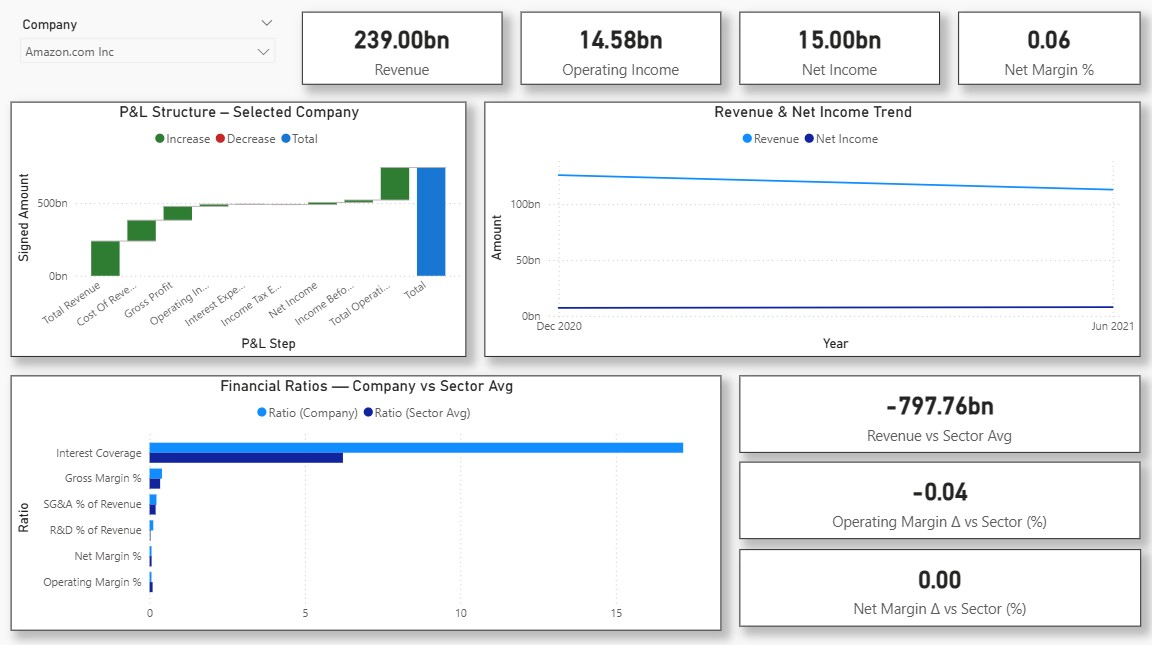

This screenshot's page, from the dashboard's own definition file:
{"tool":"powerbi","page":{"name":"Company Deep Dive","canvas":[1280,720],"ordinal":2},"visuals":[{"type":"slicer","fields":{"Values":["DimCompany.Company"]},"box":[20,20,300,60],"z":0},{"type":"card","fields":{"Values":["MeasureTable.Revenue"]},"box":[340,20,220,80],"z":1000},{"type":"card","fields":{"Values":["MeasureTable.Operating Income"]},"box":[580,20.6,220,80],"z":2000},{"type":"card","fields":{"Values":["MeasureTable.Net Income"]},"box":[820,20.6,220,80],"z":3000},{"type":"card","fields":{"Values":["MeasureTable.Net Margin %"]},"box":[1060.7,20.6,200,80],"z":4000},{"type":"waterfallChart","title":"P&L Structure – Selected Company","fields":{"Category":["FactFinancials_PnL.P&L Step"],"Y":["Sum(FactFinancials_PnL.Signed Amount)"]},"box":[20,120,500,280],"z":5000},{"type":"lineChart","title":"Revenue & Net Income Trend","fields":{"Y":["MeasureTable.Revenue","MeasureTable.Net Income"],"Category":["DimDate.Date.Variation.Date Hierarchy.Year","DimDate.Date.Variation.Date Hierarchy.Quarter","DimDate.Date.Variation.Date Hierarchy.Month","DimDate.Date.Variation.Date Hierarchy.Day"]},"box":[540,120,720,280],"z":6000},{"type":"clusteredBarChart","title":"Financial Ratios — Company vs Sector Avg","fields":{"Category":["DimRatio.Ratio"],"Y":["MeasureTable.Ratio (Company)","MeasureTable.Ratio (Sector Avg)"]},"box":[20,420,780,280],"z":6001},{"type":"card","fields":{"Values":["MeasureTable.Revenue vs Sector Avg"]},"box":[820,420,440,85.1],"z":6002},{"type":"card","fields":{"Values":["MeasureTable.Operating Margin vs Sector Avg"]},"box":[820.6,515,440,85],"z":6003},{"type":"card","fields":{"Values":["MeasureTable.Net Margin vs Sector Avg"]},"box":[820.6,610,440.5,85.1],"z":6004}]}

Visuals, with their boxes in screenshot pixels (x1, y1, x2, y2), scaled from the page's 1280x720 canvas onto the 1152x645 screenshot:
slicer - DimCompany.Company: (left=18, top=18, right=288, bottom=72)
card - MeasureTable.Revenue: (left=306, top=18, right=504, bottom=90)
card - MeasureTable.Operating Income: (left=522, top=18, right=720, bottom=90)
card - MeasureTable.Net Income: (left=738, top=18, right=936, bottom=90)
card - MeasureTable.Net Margin %: (left=955, top=18, right=1135, bottom=90)
"P&L Structure – Selected Company" waterfallChart: (left=18, top=108, right=468, bottom=358)
"Revenue & Net Income Trend" lineChart: (left=486, top=108, right=1134, bottom=358)
"Financial Ratios — Company vs Sector Avg" clusteredBarChart: (left=18, top=376, right=720, bottom=627)
card - MeasureTable.Revenue vs Sector Avg: (left=738, top=376, right=1134, bottom=452)
card - MeasureTable.Operating Margin vs Sector Avg: (left=739, top=461, right=1135, bottom=538)
card - MeasureTable.Net Margin vs Sector Avg: (left=739, top=546, right=1135, bottom=623)
